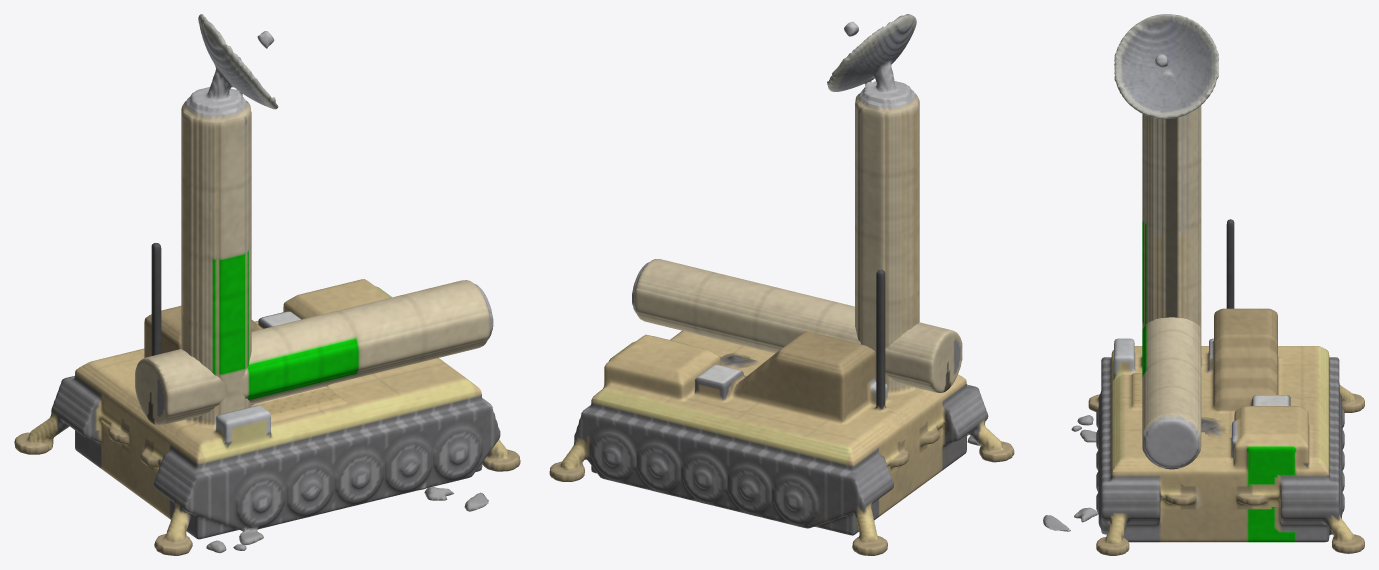
File: sensor-array.glb
3 views of the same model, side by side, from view 1: azimuth 30°, elevation 25°; view 2: azimuth 150°, elevation 25°; view 3: azimuth 270°, elevation 25° (orthographic). The views are drawn at different scales.
Parts seen in each view (by area): view 1: sensor-array, sensor-array-stowed, sensor-array-damaged; view 2: sensor-array, sensor-array-stowed; view 3: sensor-array, sensor-array-stowed, sensor-array-damaged.
Boxes of the visible parts, x1,y1,x2,y2 form: sensor-array: (14, 14, 520, 555); sensor-array-stowed: (92, 280, 493, 472); sensor-array-damaged: (206, 474, 488, 553); sensor-array: (549, 14, 1014, 555); sensor-array-stowed: (588, 259, 962, 474); sensor-array: (1088, 14, 1364, 555); sensor-array-stowed: (1131, 317, 1319, 525); sensor-array-damaged: (1043, 37, 1227, 531).
Size of the model in its own units: 1.13 by 1.43 by 0.9822.
